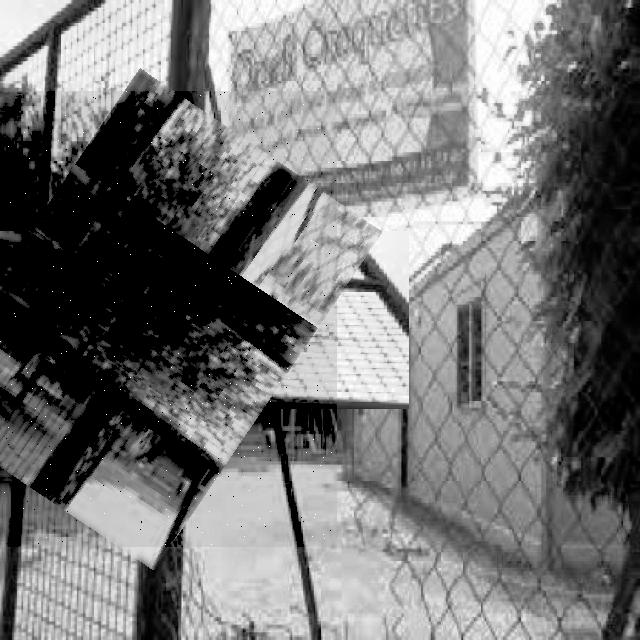fences: (0, 91, 337, 547)
